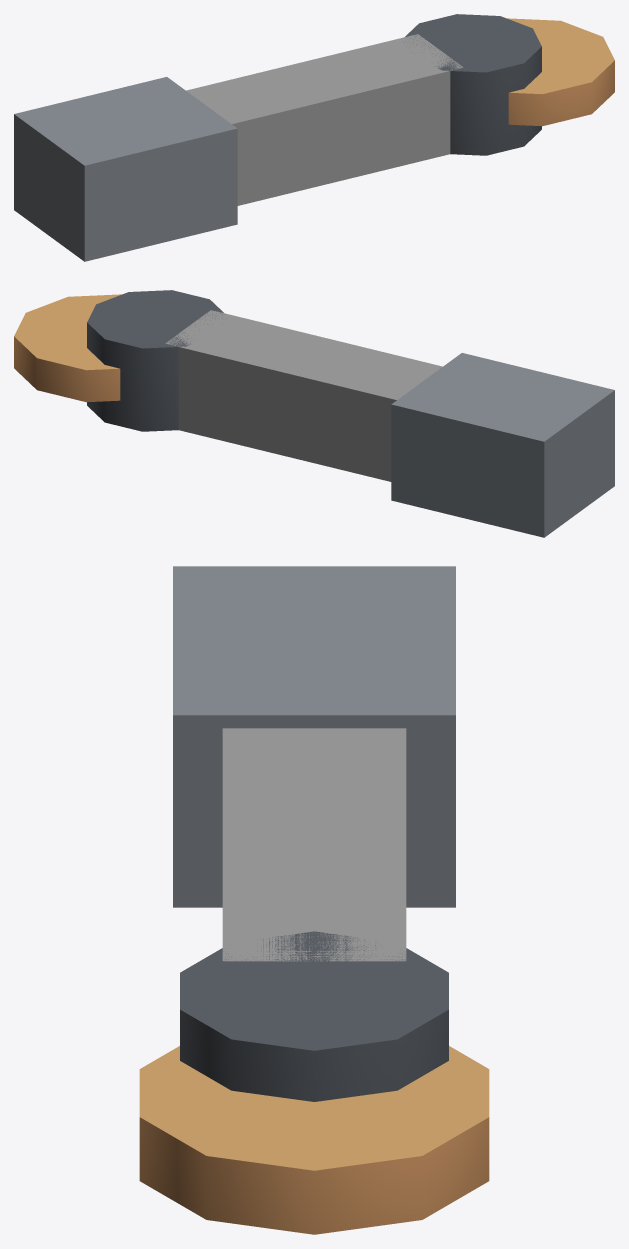
File: t_flamer_b.glb
3 views of the same model, one above another, from view 1: azimuth 30°, elevation 25°; view 2: azimuth 150°, elevation 25°; view 3: azimuth 270°, elevation 25° (orthographic). The views are drawn at different scales.
Parts seen in each view (by area): view 1: t_flamer_b; view 2: t_flamer_b; view 3: t_flamer_b.
Boxes of the visible parts, x1,y1,x2,y2 form: t_flamer_b: (14, 14, 614, 261); t_flamer_b: (14, 290, 614, 537); t_flamer_b: (139, 566, 489, 1234).
Size of the model in its own units: 1.81 by 0.3 by 0.4945.
